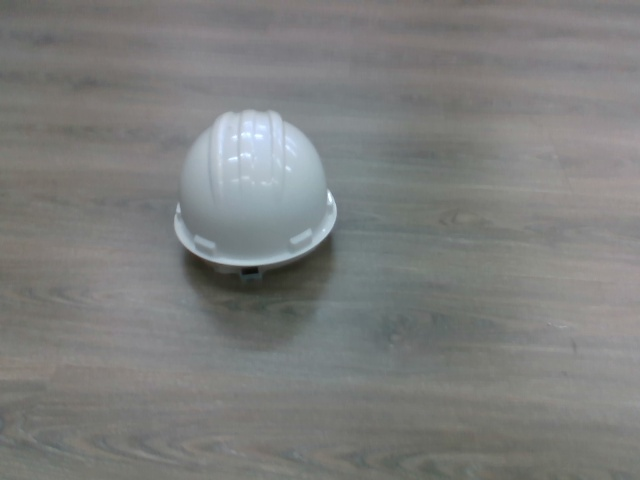helmet: (170, 106, 342, 282)
